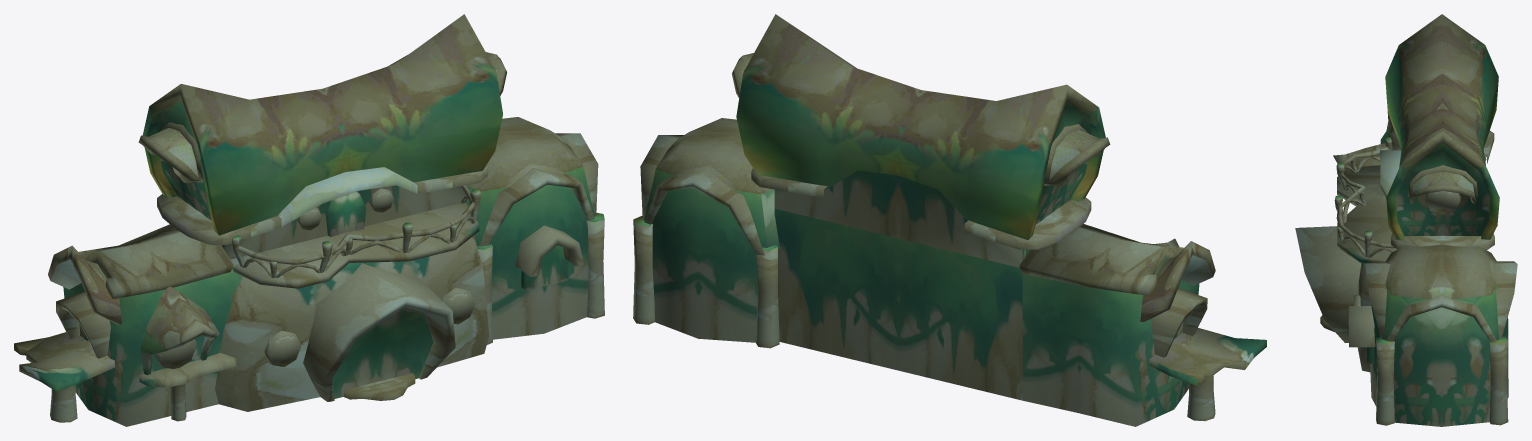
Rendered from Map_07_house08.FBX.
3 views of the same model, side by side, from view 1: azimuth 30°, elevation 25°; view 2: azimuth 150°, elevation 25°; view 3: azimuth 270°, elevation 25° (orthographic). The views are drawn at different scales.
Parts seen in each view (by area): view 1: Map_07_house08; view 2: Map_07_house08; view 3: Map_07_house08.
Part boxes in pixels (<box>): Map_07_house08: <box>14,14,604,426</box>; Map_07_house08: <box>633,14,1266,426</box>; Map_07_house08: <box>1295,14,1517,426</box>.
Size of the model in its own units: 1122 by 452 by 563.
